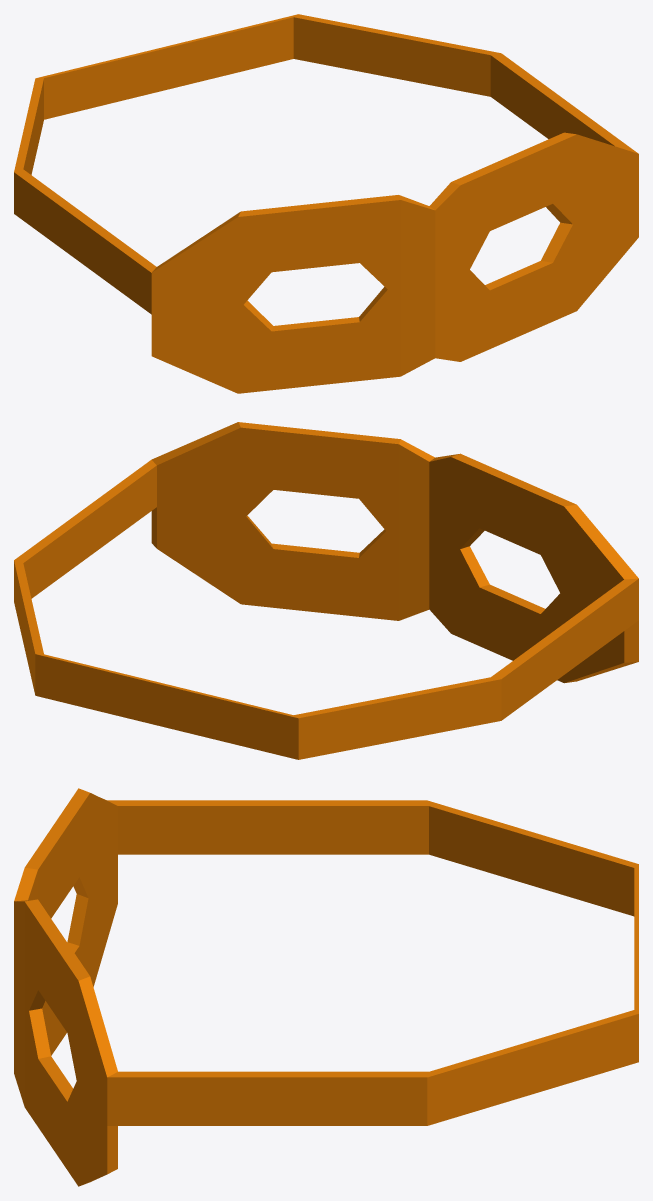
Rendered from Antifaz.fbx.
3 views of the same model, one above another, from view 1: azimuth 30°, elevation 25°; view 2: azimuth 150°, elevation 25°; view 3: azimuth 270°, elevation 25° (orthographic). The views are drawn at different scales.
Visible parts, largest first — view 1: Antifaz; view 2: Antifaz; view 3: Antifaz.
Part boxes in pixels (x1,y1,x2,y2): Antifaz: (14, 14, 638, 393); Antifaz: (14, 422, 638, 759); Antifaz: (14, 788, 638, 1186).
Size of the model in its own units: 25.66 by 8.89 by 24.46.
